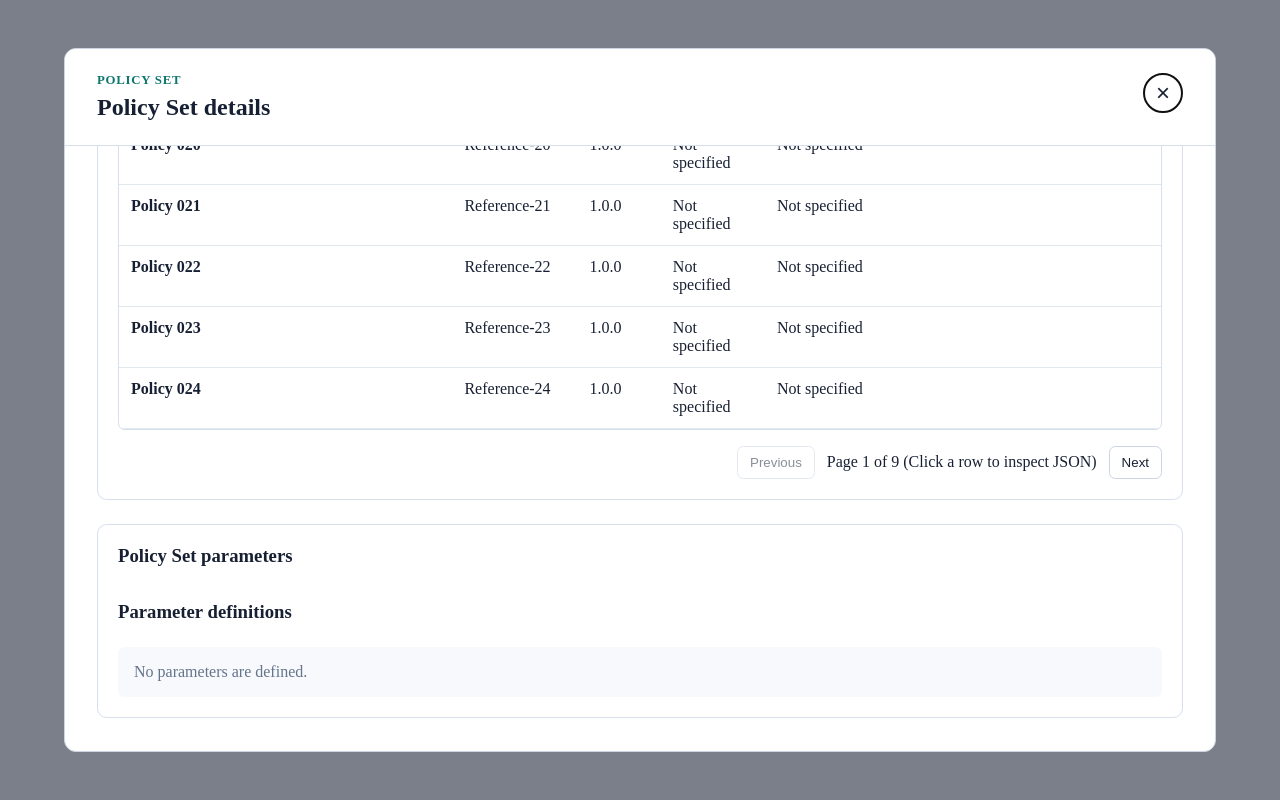
Scenario: PolicySetDetailsDialogComponent › searches every member field, resets pagination, and sorts the filtered data
The image size is (1280, 800).
(page scrolled)
Click the button "Next" at (1135, 462), box [1109, 446, 1162, 479]
(page scrolled)
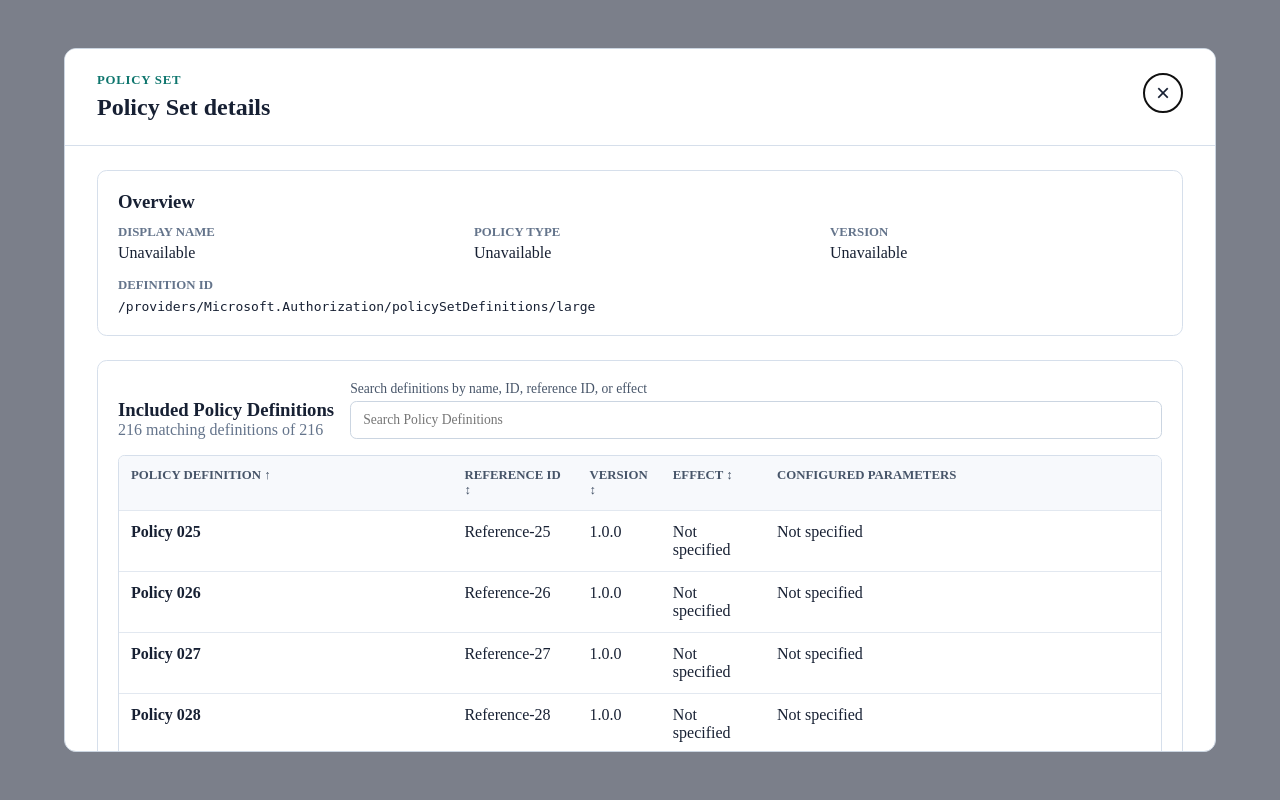
Type "Policy 201" into the search field labelled "Search definitions by name, ID, reference ID, or effect" at (756, 420), box [350, 401, 1162, 439]
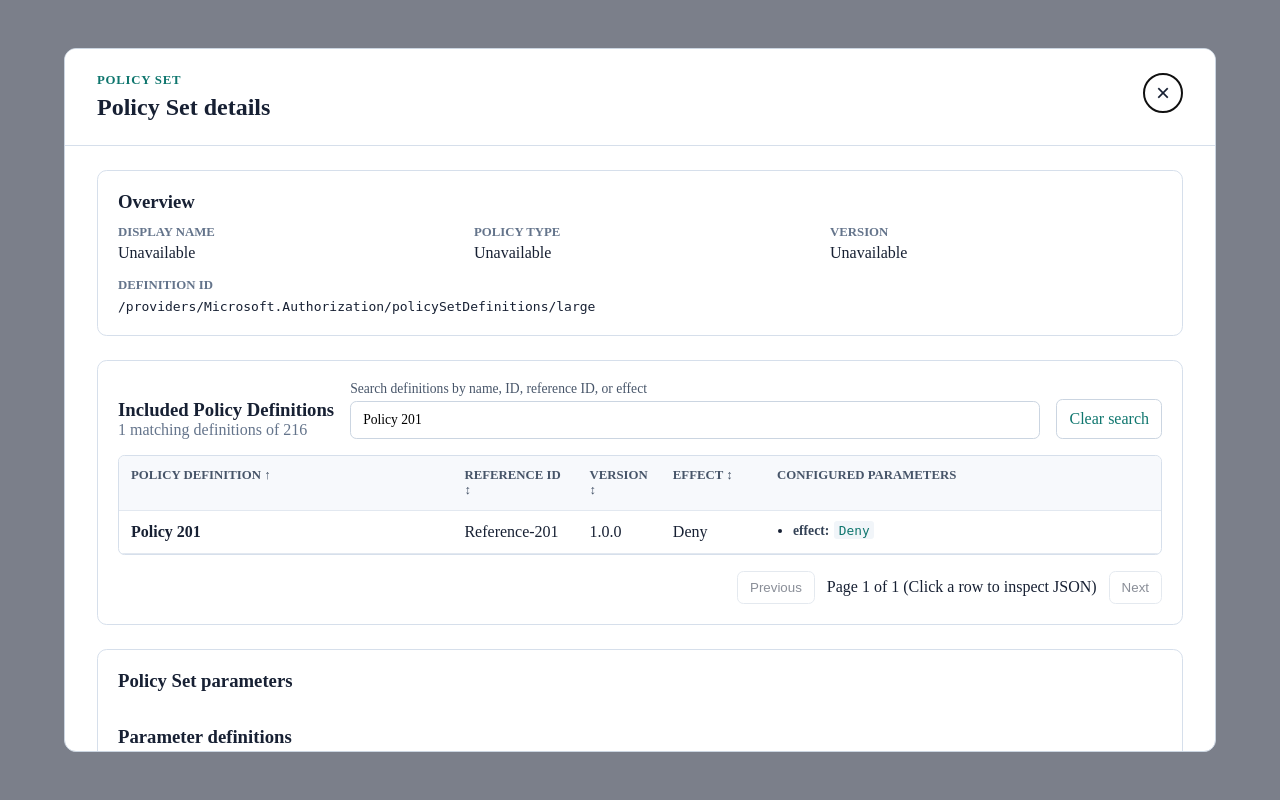
Expected: the text "Reference-201" is shown, [452, 510, 577, 553]
Expected: the text "Page 1 of 1" is shown, [827, 578, 1097, 595]
Replace the text in the search field labelled "Search definitions by name, ID, reference ID, or effect" with "member-201" at (695, 420), box [350, 401, 1040, 439]
Replace the text in the search field labelled "Search definitions by name, ID, reference ID, or effect" with "reference-201" at (695, 420), box [350, 401, 1040, 439]
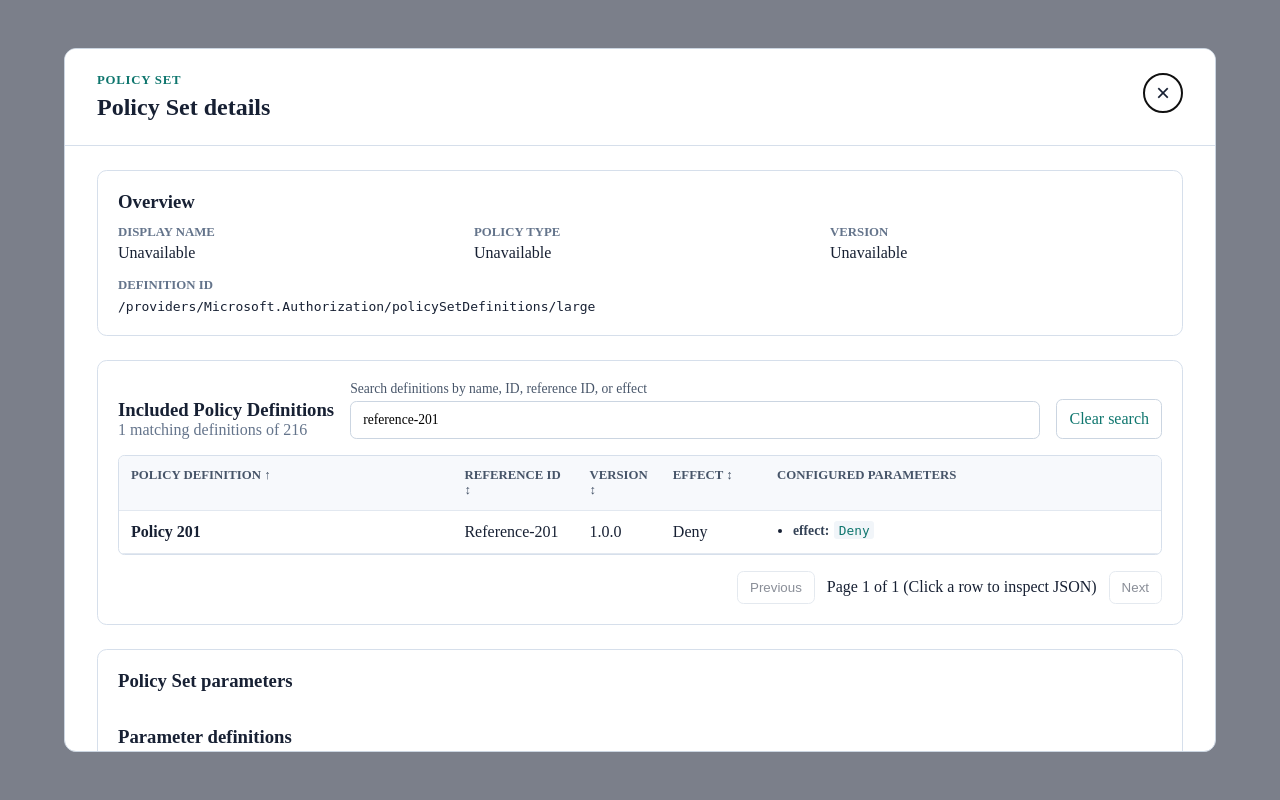
Replace the text in the search field labelled "Search definitions by name, ID, reference ID, or effect" with "deny" at (695, 420), box [350, 401, 1040, 439]
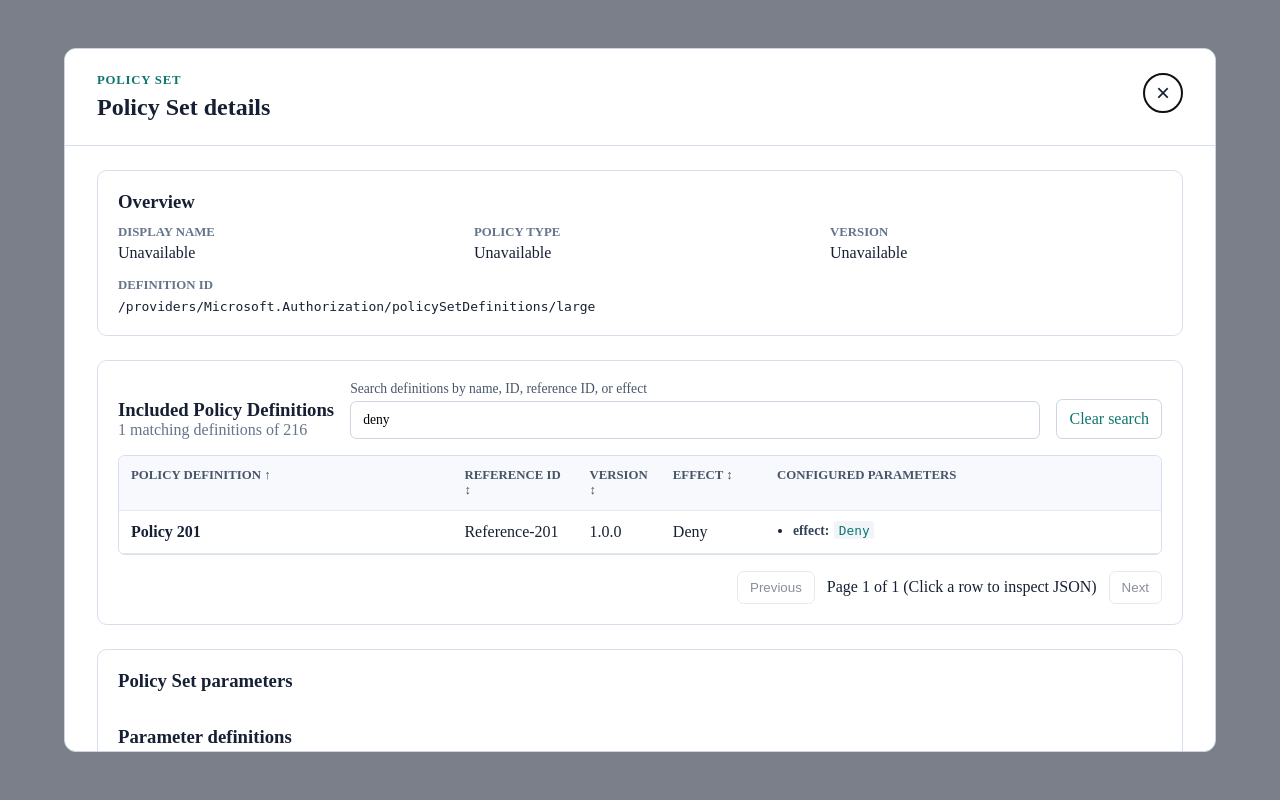
Click the button with class "clear-filter-button" at (1109, 419), box [1056, 399, 1162, 439]
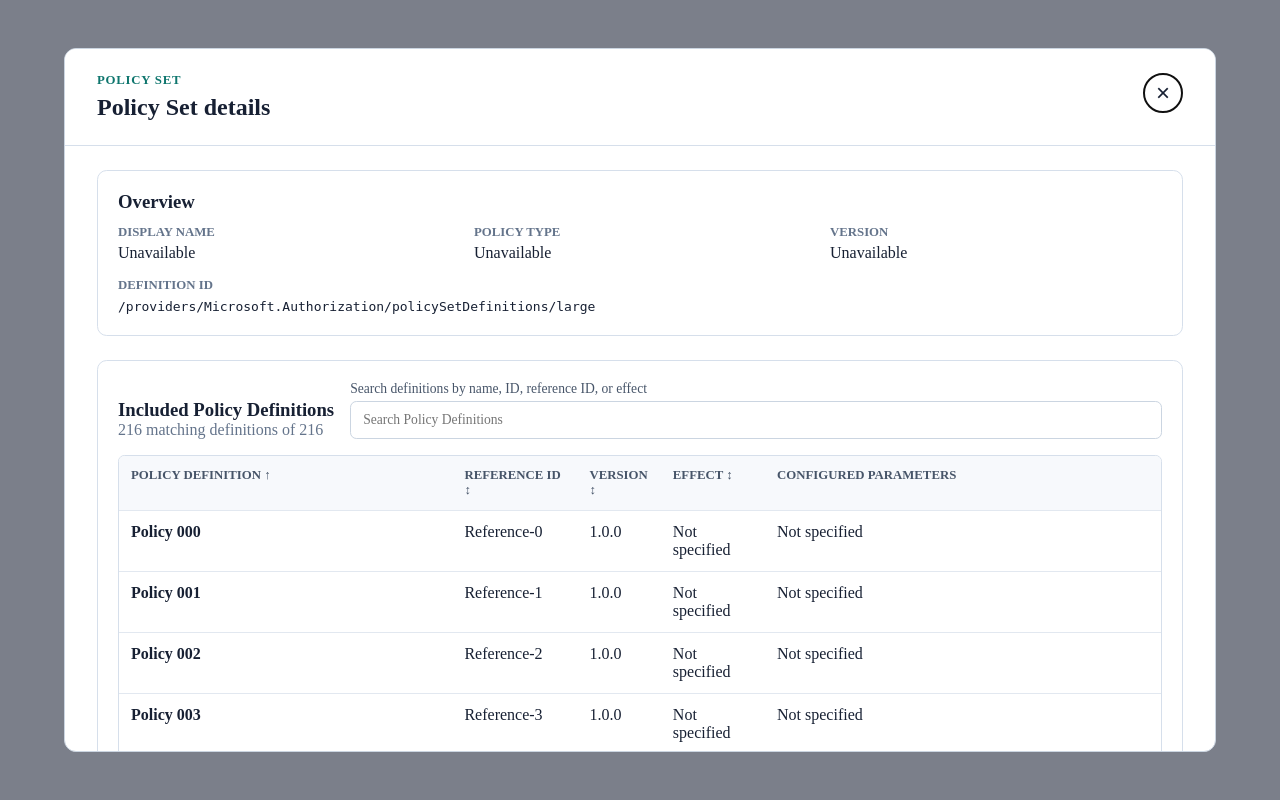
Click the button with class "sort-button" showing "Policy Definition ↑" at (201, 475), box [131, 468, 271, 483]
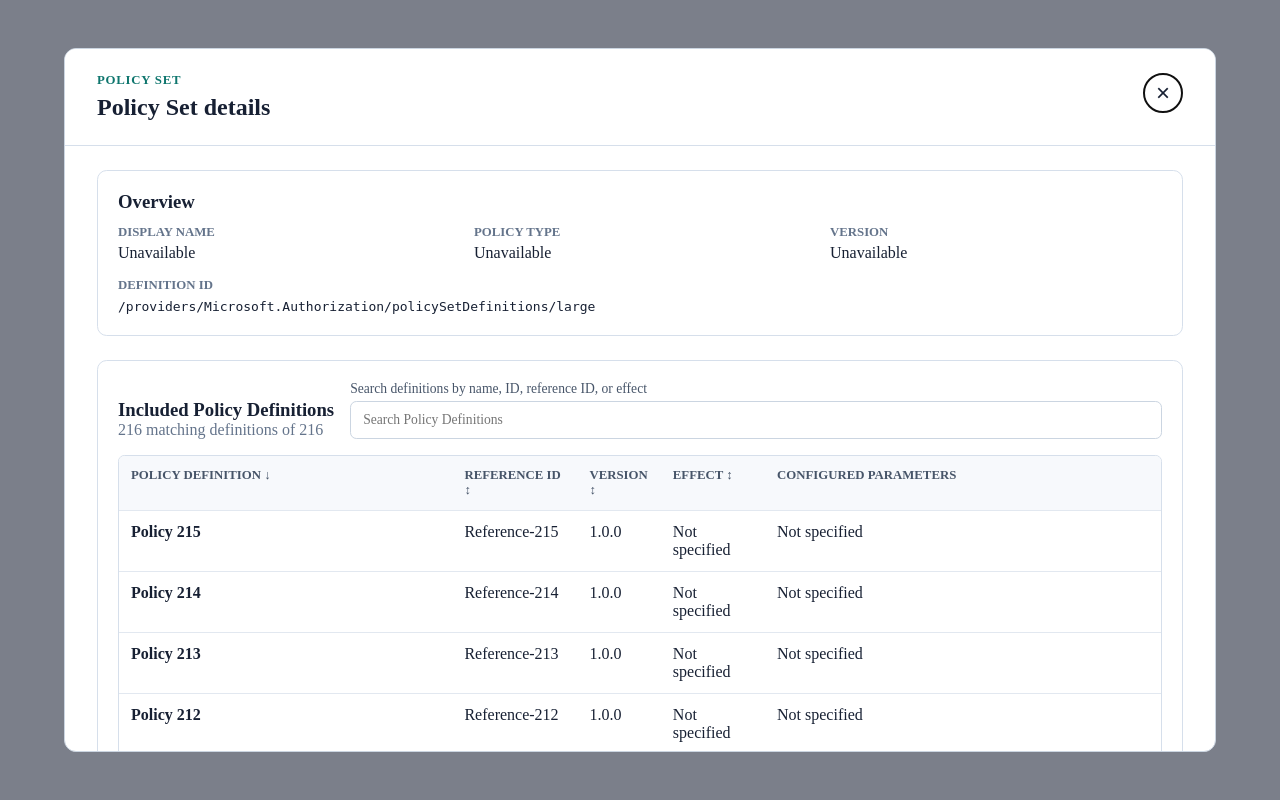
Expected: the row "Policy 215 Reference-215 1.0.0 Not specified Not specified" is shown, [119, 510, 1161, 571]
